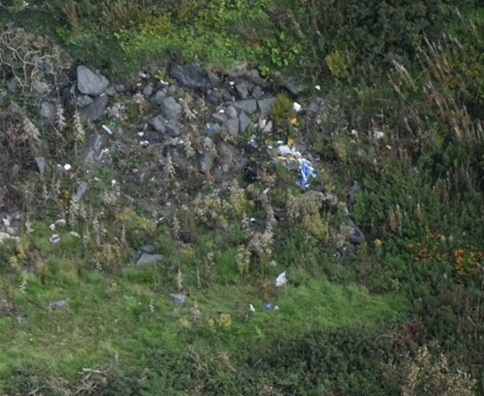scattered_barrel: (238, 253, 303, 319)
together_barrel: (266, 135, 321, 189)
white_in_green: (46, 143, 93, 185), (277, 86, 319, 125)
